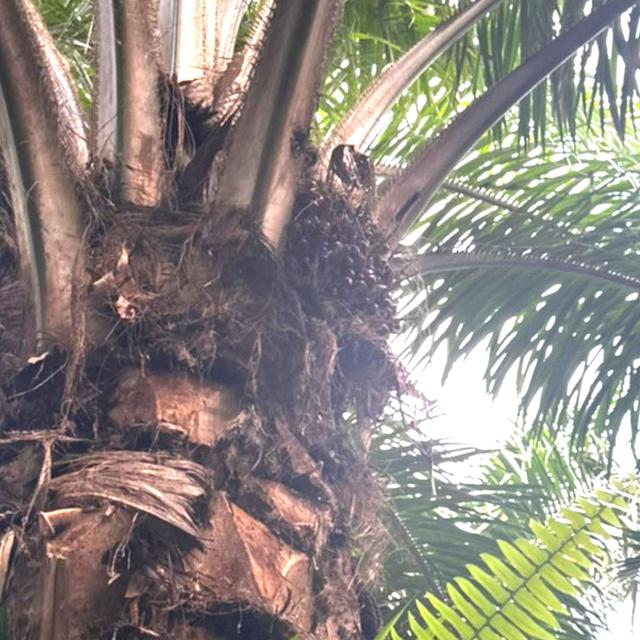ripe: (263, 153, 413, 377)
